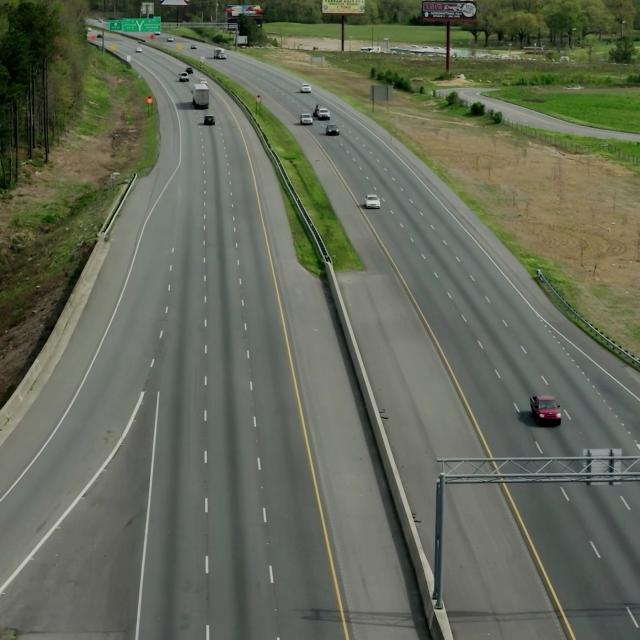Vehicle: (524, 391, 562, 427), (362, 190, 384, 212)
